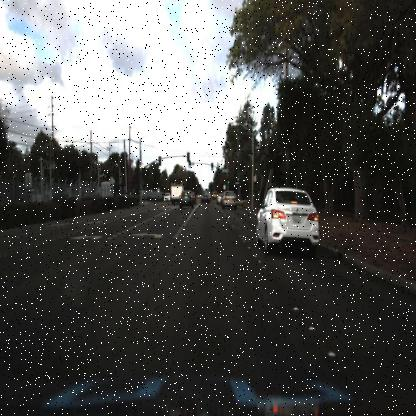car: (254, 182, 327, 268), (177, 195, 196, 219), (220, 188, 237, 206), (200, 188, 214, 204)
trafficLight-Green: (235, 170, 240, 185)
truck: (168, 178, 186, 206), (171, 180, 183, 205)
